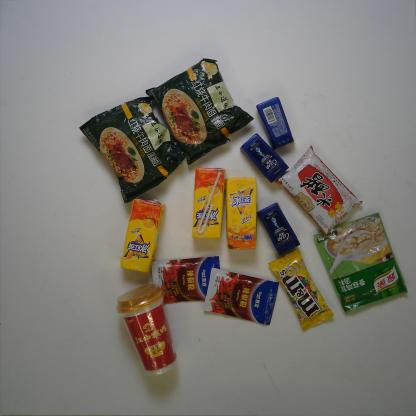Chocolate: (266, 247, 336, 334)
Drink: (118, 197, 168, 275), (190, 166, 227, 240), (224, 175, 259, 251)
Instant Drink: (113, 282, 180, 379)
Instant Noodles: (145, 57, 256, 167), (78, 96, 186, 206)
Personal Hygiene: (238, 132, 291, 185), (255, 201, 302, 256), (255, 96, 296, 150)
Seasoner: (312, 211, 410, 315), (274, 143, 364, 239), (201, 264, 280, 328), (150, 254, 222, 306)
